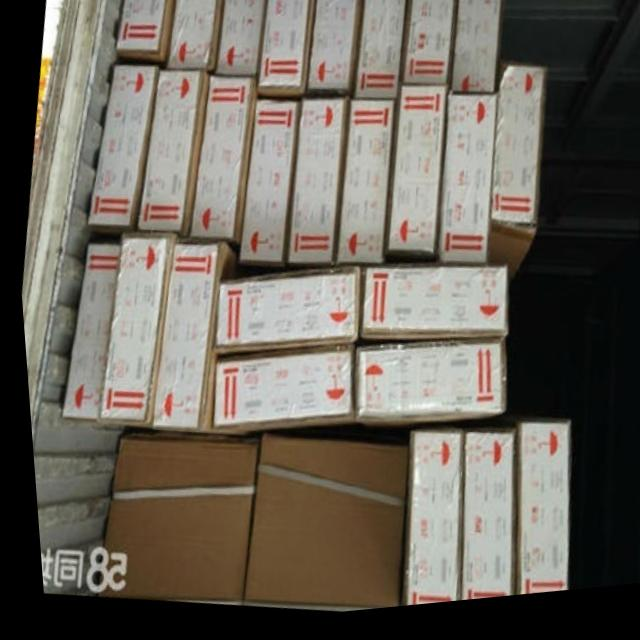box: (234, 439, 403, 618), (89, 430, 254, 610), (92, 234, 172, 432), (144, 244, 222, 435), (481, 75, 547, 288), (184, 78, 257, 264), (132, 73, 208, 244), (349, 348, 501, 433), (83, 67, 158, 235), (208, 272, 356, 357), (205, 354, 350, 439), (282, 103, 348, 278), (379, 93, 446, 265), (354, 273, 503, 348), (432, 101, 495, 276), (55, 243, 116, 423), (233, 104, 299, 269), (393, 439, 455, 613), (332, 107, 396, 272), (450, 439, 510, 609), (506, 430, 563, 604), (255, 0, 316, 108), (351, 0, 408, 109), (305, 0, 364, 105), (448, 0, 502, 103), (397, 0, 456, 94), (164, 0, 224, 78), (212, 0, 267, 82), (116, 0, 174, 74)
